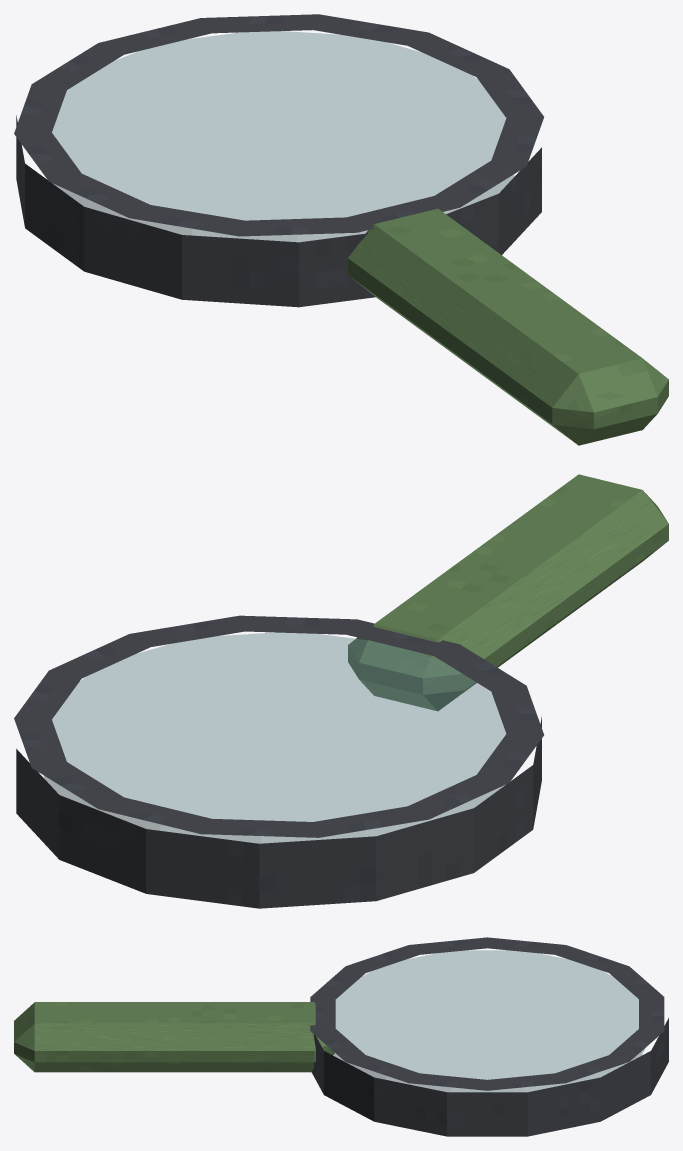
The model's file is magnifying_glass.glb.
3 views of the same model, one above another, from view 1: azimuth 30°, elevation 25°; view 2: azimuth 150°, elevation 25°; view 3: azimuth 270°, elevation 25° (orthographic). The views are drawn at different scales.
Visible parts, largest first — view 1: block_optical face, block_hand grip, block_outer rim, block_raised lip 11, block_raised lip 4, block_raised lip 5, block_raised lip 12, block_raised lip 10, block_raised lip 6, block_raised lip 13, block_raised lip 2, block_raised lip 9 (+5 smaller); view 2: block_optical face, block_outer rim, block_hand grip, block_raised lip 9, block_raised lip 2, block_raised lip 1, block_raised lip 8, block_raised lip 10, block_raised lip 0, block_raised lip 7, block_raised lip 4, block_raised lip 11 (+5 smaller); view 3: block_optical face, block_hand grip, block_outer rim, block_raised lip 0, block_raised lip 13, block_raised lip 6, block_raised lip 7, block_raised lip 8, block_raised lip 12, block_raised lip 5, block_raised lip 1, block_raised lip 10 (+5 smaller).
Part boxes in pixels (<box>): block_optical face: <box>52,31,514,242</box>; block_hand grip: <box>348,208,668,445</box>; block_outer rim: <box>16,115,541,307</box>; block_raised lip 11: <box>201,14,318,33</box>; block_raised lip 4: <box>239,217,356,236</box>; block_raised lip 5: <box>129,205,244,236</box>; block_raised lip 12: <box>313,14,428,45</box>; block_raised lip 10: <box>99,18,211,54</box>; block_raised lip 6: <box>49,173,149,217</box>; block_raised lip 13: <box>408,32,508,76</box>; block_raised lip 2: <box>434,160,526,207</box>; block_raised lip 9: <box>32,43,123,89</box>; block_optical face: <box>44,632,505,843</box>; block_outer rim: <box>16,716,541,908</box>; block_hand grip: <box>348,474,668,711</box>; block_raised lip 9: <box>201,819,318,837</box>; block_raised lip 2: <box>239,615,357,634</box>; block_raised lip 1: <box>130,615,244,646</box>; block_raised lip 8: <box>313,806,428,837</box>; block_raised lip 10: <box>98,797,211,833</box>; block_raised lip 0: <box>49,634,150,678</box>; block_raised lip 7: <box>408,775,508,819</box>; block_raised lip 4: <box>434,644,525,691</box>; block_raised lip 11: <box>32,762,123,808</box>; block_optical face: <box>331,950,645,1092</box>; block_hand grip: <box>14,1002,334,1072</box>; block_outer rim: <box>311,1018,668,1136</box>; block_raised lip 0: <box>409,1073,487,1090</box>; block_raised lip 13: <box>487,1073,565,1090</box>; block_raised lip 6: <box>409,937,487,954</box>; block_raised lip 7: <box>487,937,565,954</box>; block_raised lip 8: <box>555,945,628,972</box>; block_raised lip 12: <box>555,1055,628,1082</box>; block_raised lip 5: <box>346,945,419,972</box>; block_raised lip 1: <box>346,1055,419,1082</box>; block_raised lip 10: <box>639,997,664,1030</box>.
Size of the model in its own units: 0.0943 by 0.014 by 0.1701.
Materials: 2 (2 with a texture image).
